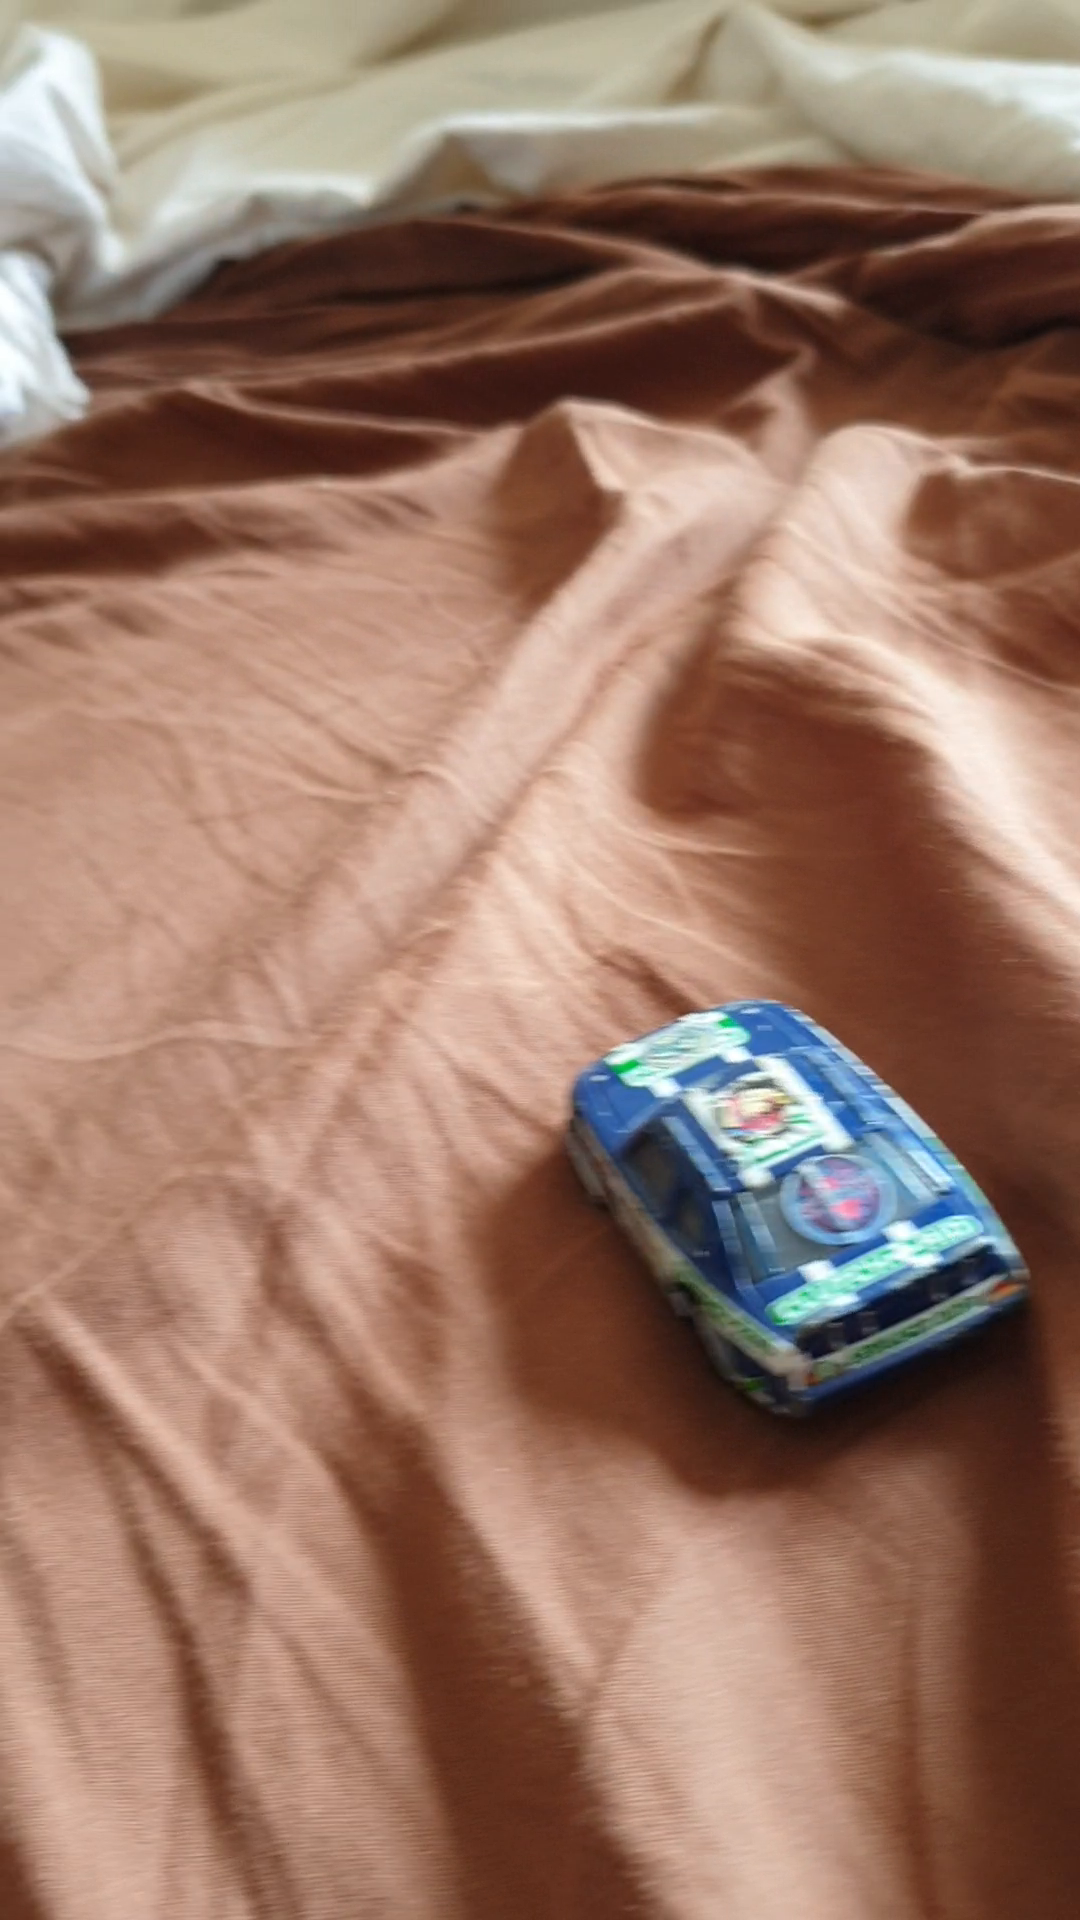cars: (559, 997, 1030, 1445)
